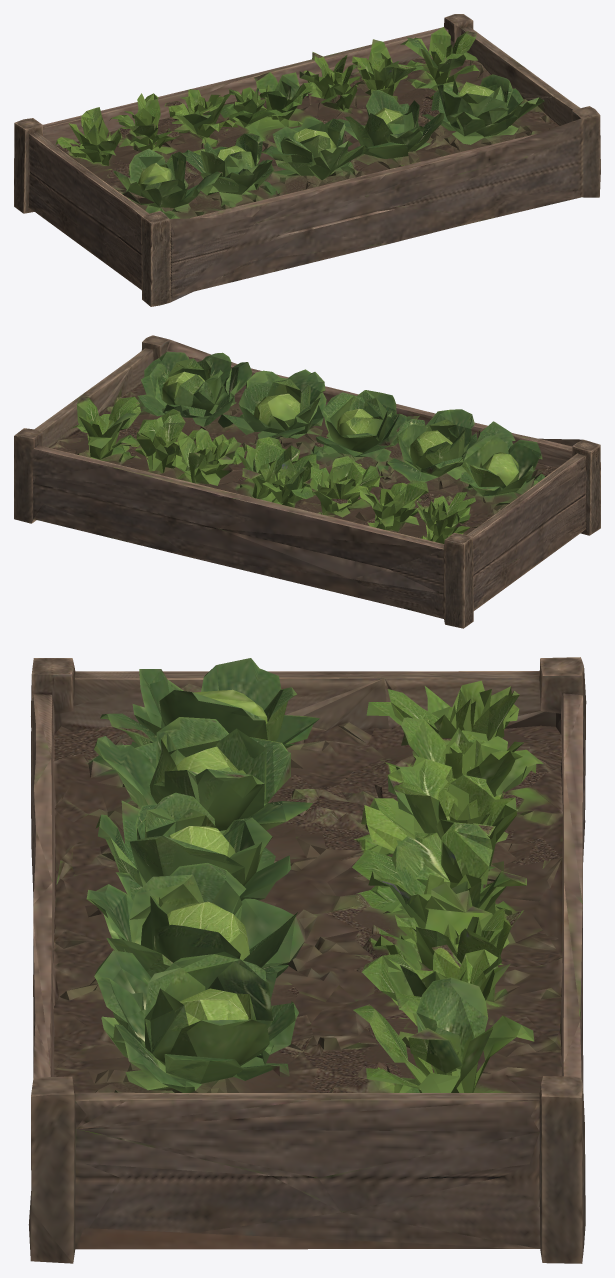
File: veg_bed.glb
3 renders of one model, top to bottom at view 1: azimuth 30°, elevation 25°; view 2: azimuth 150°, elevation 25°; view 3: azimuth 270°, elevation 25°, orthographic. The views are drawn at different scales.
Visible parts, largest first — view 1: Mesh_0; view 2: Mesh_0; view 3: Mesh_0.
Part boxes in pixels (x1=…): Mesh_0: x1=14, y1=14, x2=600, y2=306; Mesh_0: x1=14, y1=335, x2=600, y2=628; Mesh_0: x1=28, y1=657, x2=586, y2=1263.
Bounding box in the file's own units: 2.4 × 0.5335 × 1.28.
1 material, 1 textured.
